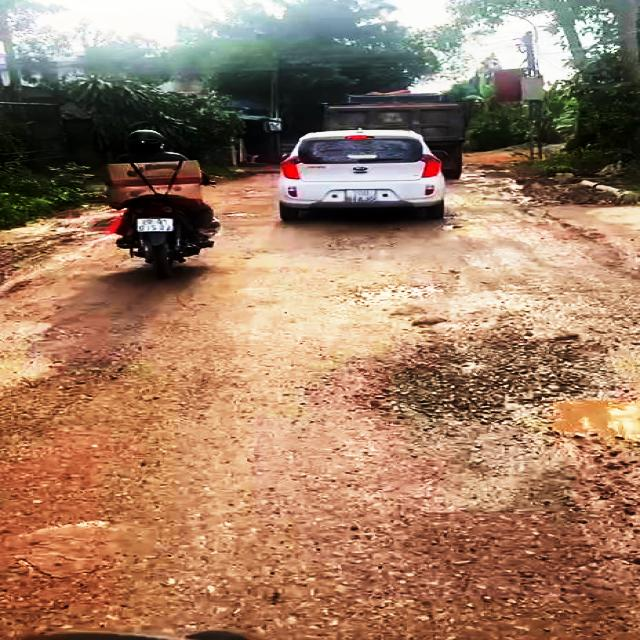pothole: (378, 327, 640, 455)
